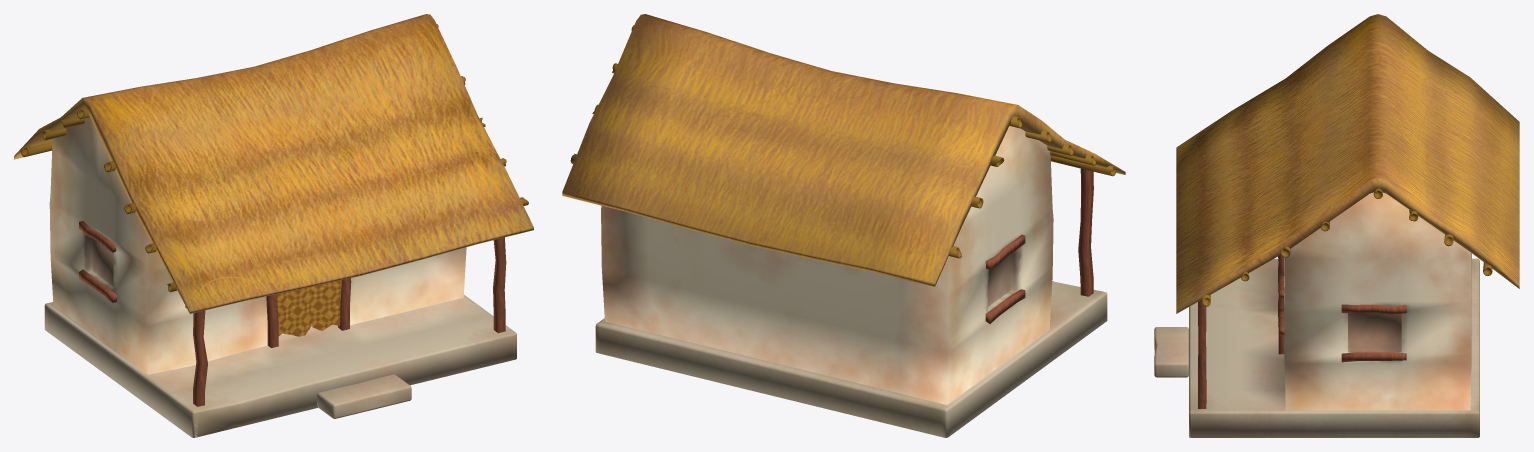
File: ✅ village roadside building.glb
3 renders of one model, left to right at view 1: azimuth 30°, elevation 25°; view 2: azimuth 150°, elevation 25°; view 3: azimuth 270°, elevation 25°, orthographic. The views are drawn at different scales.
Parts seen in each view (by area): view 1: House; view 2: House; view 3: House.
Part boxes in pixels (bbox=[...]): House: bbox=[14, 14, 533, 437]; House: bbox=[562, 14, 1125, 437]; House: bbox=[1154, 14, 1519, 437].
Bounding box in the file's own units: 10.13 × 7.3 × 9.13.
1 material, 1 textured.
